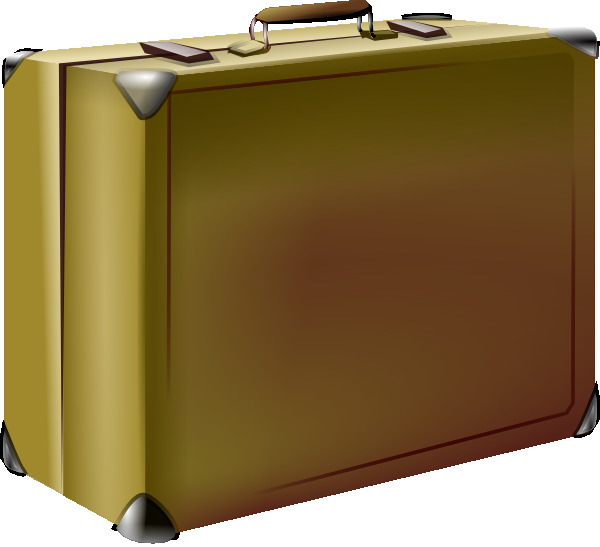shoutibox: (0, 0, 600, 542)
